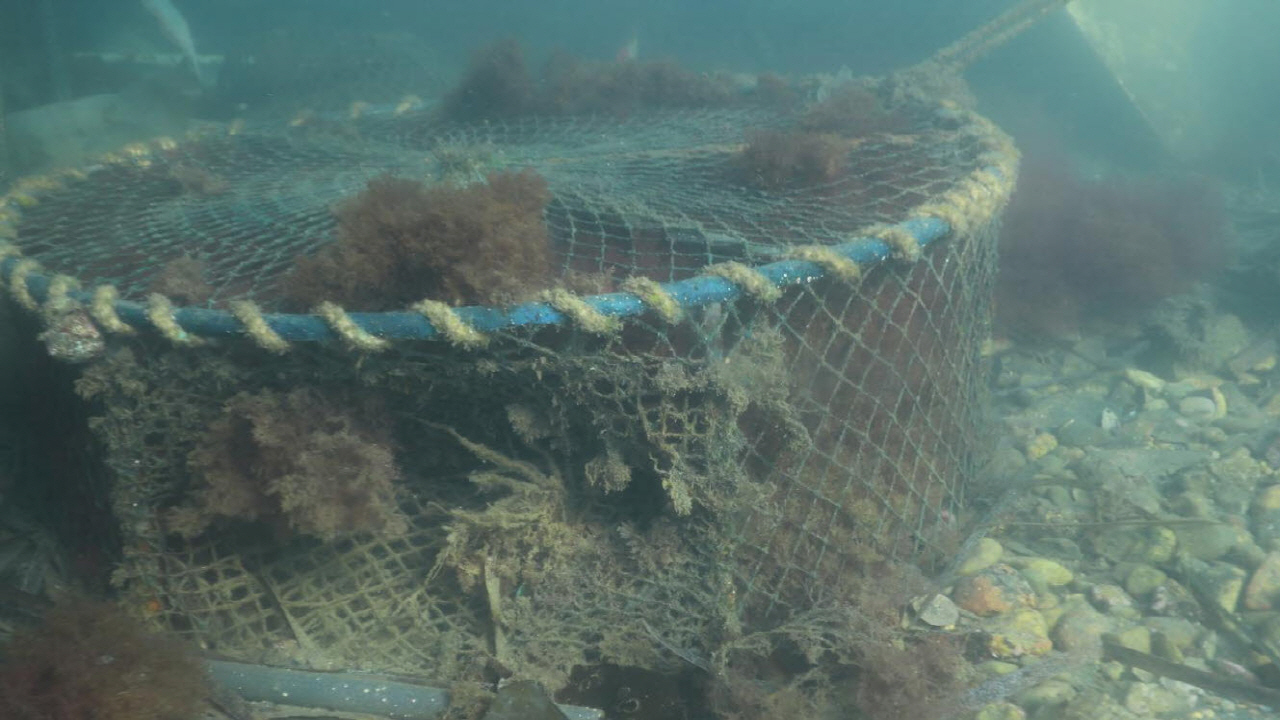bundle of ropes: (886, 0, 1064, 84)
circular fish trap: (0, 72, 1021, 683)
